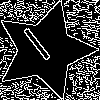I: (20, 25, 60, 71)
